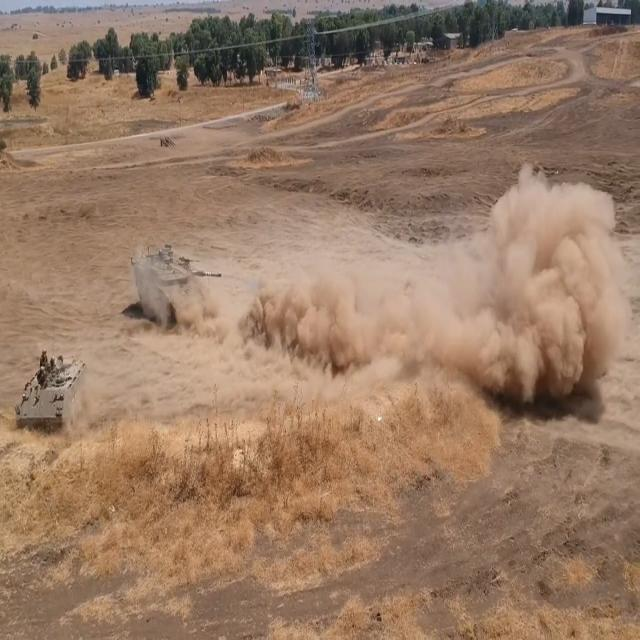tank: (132, 245, 232, 337)
